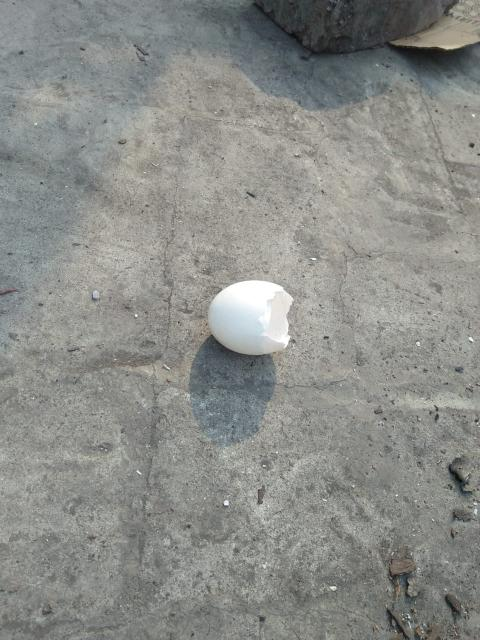Roto: (206, 279, 294, 356)
